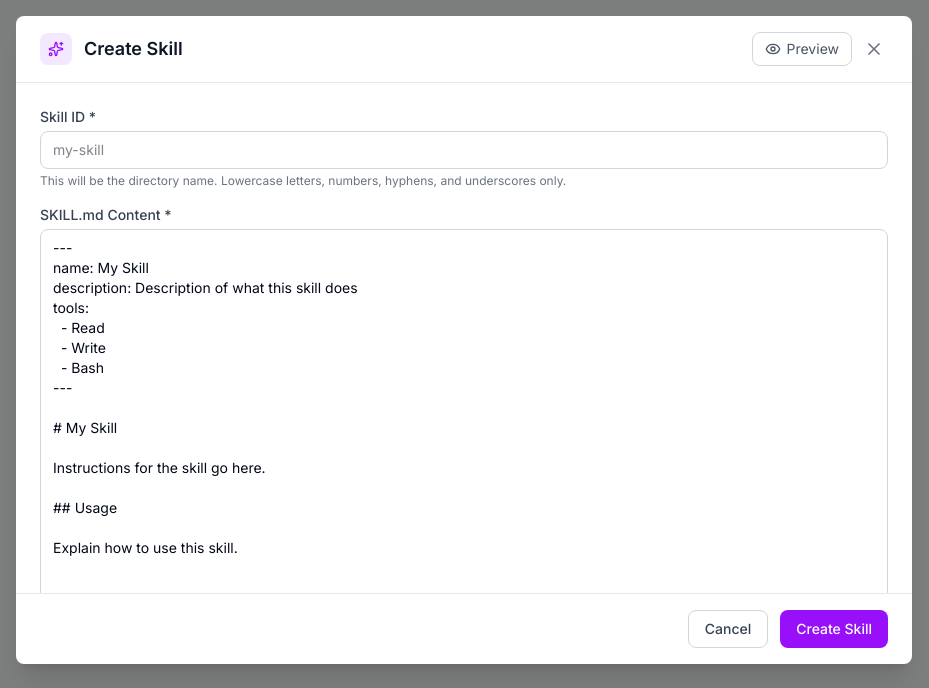
Test: SkillEditModal › toggles preview mode
The image size is (929, 688).
Click the button "Preview" at point(802, 49), box [752, 32, 852, 66]
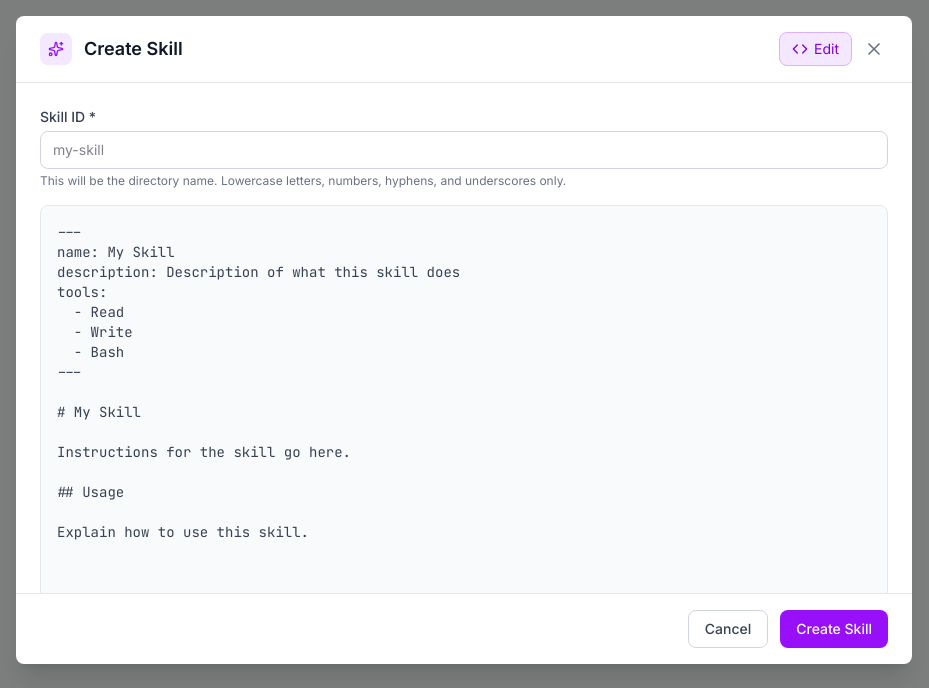
Check: the button "Edit" is shown, box [779, 32, 852, 66]
